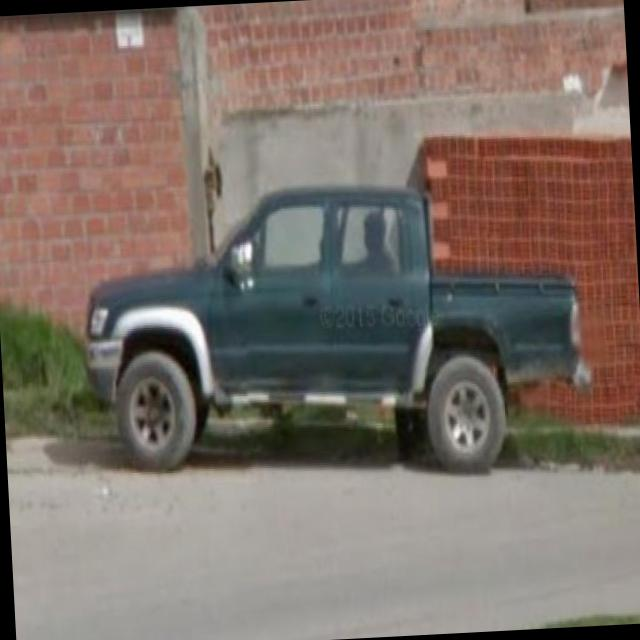car: (71, 172, 587, 492)
